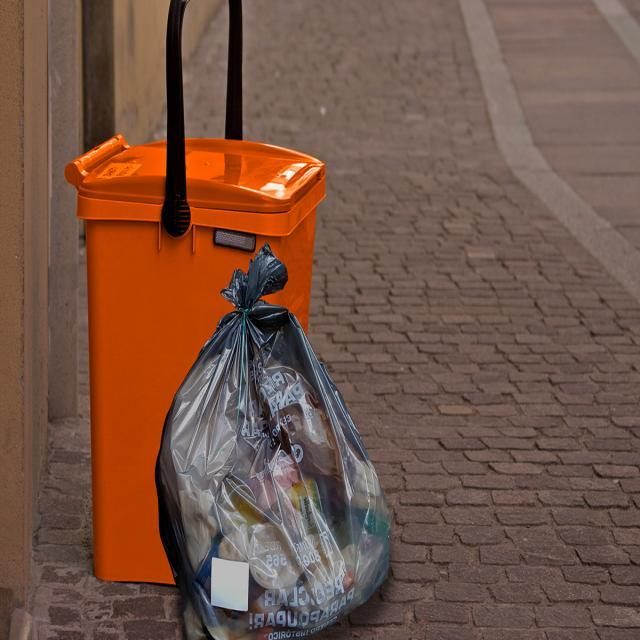garbage: (85, 232, 393, 640)
